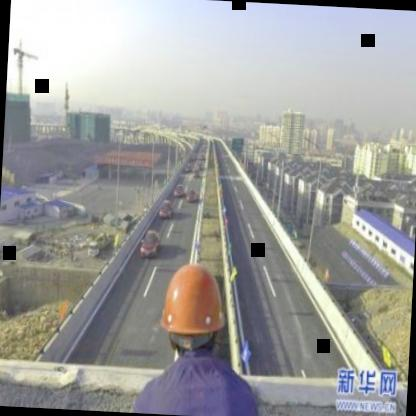helmet: (156, 256, 232, 369)
